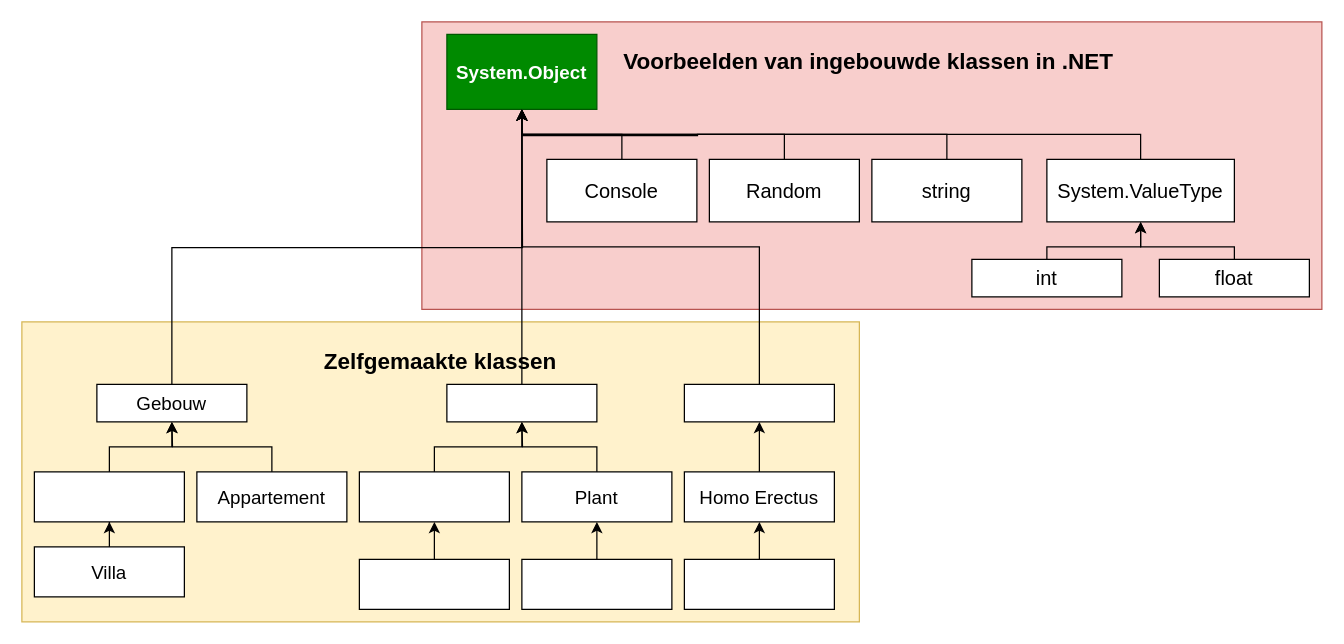
Some shapes in this 1344 by 644 pixel diagram are drawn without their labels. Each missing label, with the centre of its shape:
"Dier" belongs at (433,496).
"Homo Habilis" belongs at (758,402).
"Homo Sapiens Sapiens" belongs at (758,583).
"Huis" belongs at (108,496).
"Levend Wezen" belongs at (521,402).
"Paard" belongs at (433,583).
"Tulp" belongs at (596,583).
